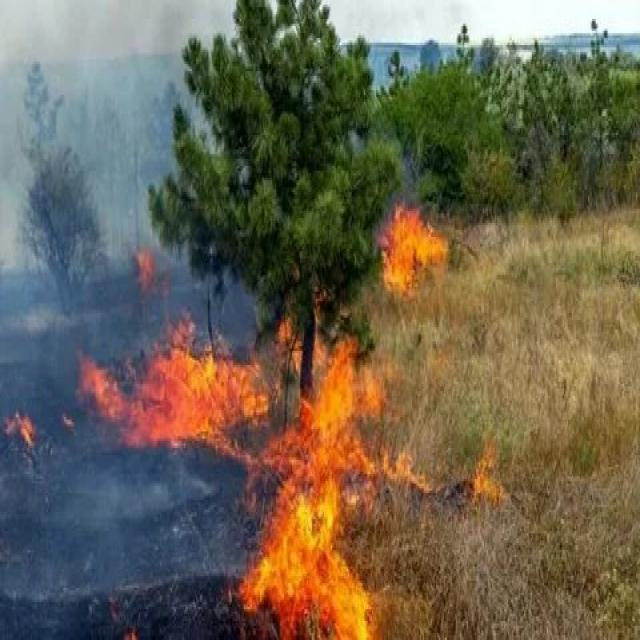Fire: (90, 268, 488, 638)
